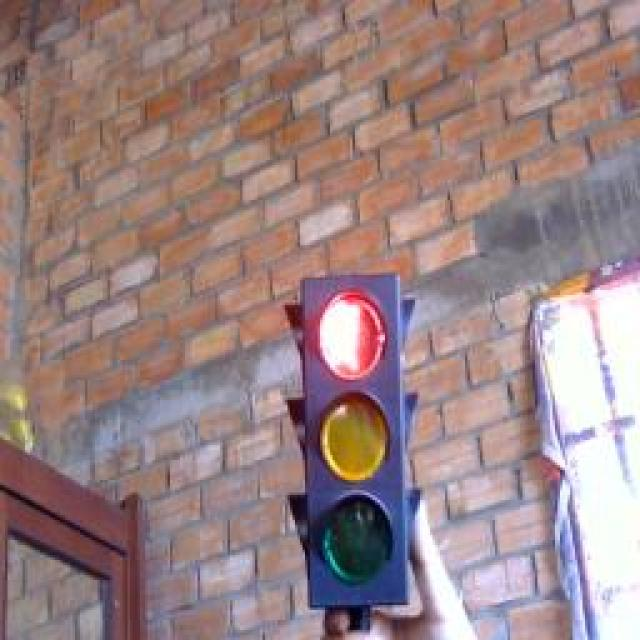-: (311, 282, 401, 390)
